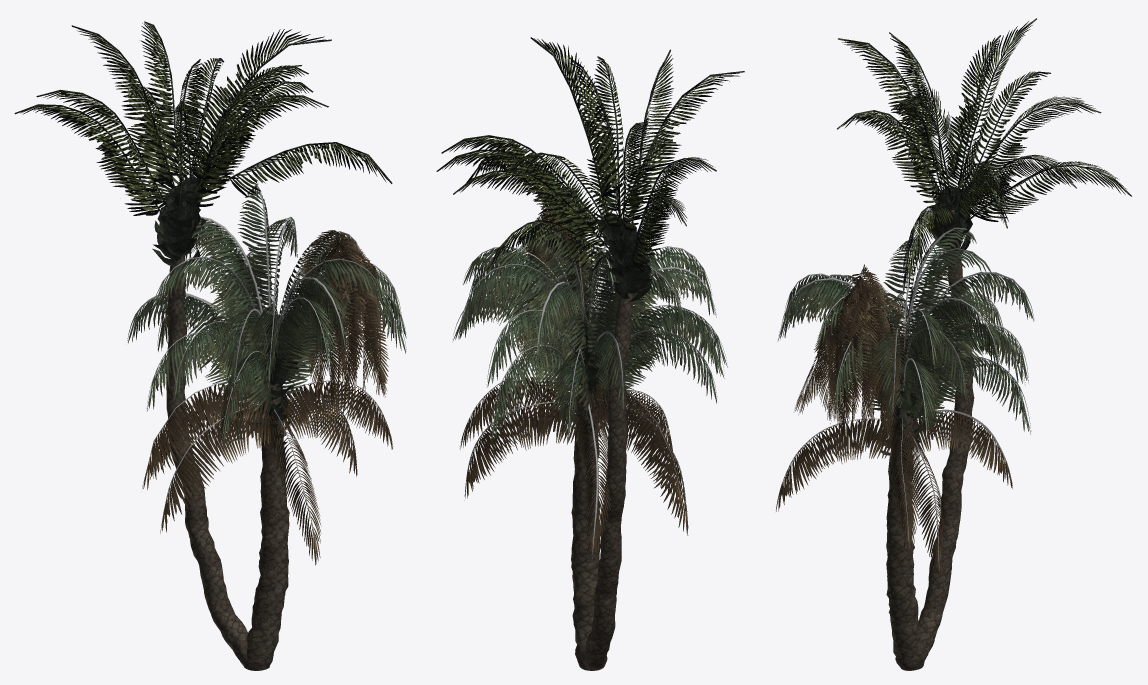
The model's file is merged_palm_tree.obj.
3 views of the same model, side by side, from view 1: azimuth 30°, elevation 25°; view 2: azimuth 150°, elevation 25°; view 3: azimuth 270°, elevation 25° (orthographic). The views are drawn at different scales.
Visible parts, largest first — view 1: Palm_tree_001_v2_M_frond_02_inst_Inst_0.001, Palm_tree_002_v2_M_frond_03_inst_Inst1_0.001, Palm_tree_001_v2_M_frond_01_inst_0.001, Palm_tree_002_v2_M_frond_01_inst.1_0.001, Palm_tree_002_v2_M_palm_bark_01.1_0.001, Palm_tree_001_v2_M_palm_bark_01_0.001, Palm_tree_001_v2_M_palm_bark_02_0.001, Palm_tree_002_v2_M_palm_bark_02.1_0.001, Palm_tree_002_v2_M_bark_hair_inst.1_0.001, Palm_tree_001_v2_M_bark_hair_inst_0.001; view 2: Palm_tree_001_v2_M_frond_02_inst_Inst_0.001, Palm_tree_002_v2_M_frond_03_inst_Inst1_0.001, Palm_tree_001_v2_M_frond_01_inst_0.001, Palm_tree_002_v2_M_palm_bark_01.1_0.001, Palm_tree_001_v2_M_palm_bark_01_0.001, Palm_tree_002_v2_M_palm_bark_02.1_0.001, Palm_tree_001_v2_M_palm_bark_02_0.001, Palm_tree_002_v2_M_bark_hair_inst.1_0.001, Palm_tree_002_v2_M_frond_01_inst.1_0.001, Palm_tree_001_v2_M_bark_hair_inst_0.001; view 3: Palm_tree_001_v2_M_frond_02_inst_Inst_0.001, Palm_tree_002_v2_M_frond_03_inst_Inst1_0.001, Palm_tree_001_v2_M_frond_01_inst_0.001, Palm_tree_002_v2_M_frond_01_inst.1_0.001, Palm_tree_001_v2_M_palm_bark_01_0.001, Palm_tree_002_v2_M_palm_bark_01.1_0.001, Palm_tree_001_v2_M_palm_bark_02_0.001, Palm_tree_002_v2_M_palm_bark_02.1_0.001, Palm_tree_002_v2_M_bark_hair_inst.1_0.001, Palm_tree_001_v2_M_bark_hair_inst_0.001.
Part boxes in pixels (x1,y1,x2,y2): Palm_tree_001_v2_M_frond_02_inst_Inst_0.001: (128,185,406,446); Palm_tree_002_v2_M_frond_03_inst_Inst1_0.001: (18,22,388,215); Palm_tree_001_v2_M_frond_01_inst_0.001: (142,381,393,565); Palm_tree_002_v2_M_frond_01_inst.1_0.001: (300,230,389,408); Palm_tree_002_v2_M_palm_bark_01.1_0.001: (166,254,269,669); Palm_tree_001_v2_M_palm_bark_01_0.001: (243,384,289,670); Palm_tree_001_v2_M_palm_bark_02_0.001: (127,185,406,563); Palm_tree_002_v2_M_palm_bark_02.1_0.001: (14,21,392,213); Palm_tree_002_v2_M_bark_hair_inst.1_0.001: (152,176,206,267); Palm_tree_001_v2_M_bark_hair_inst_0.001: (243,315,302,445); Palm_tree_001_v2_M_frond_02_inst_Inst_0.001: (453,219,727,444); Palm_tree_002_v2_M_frond_03_inst_Inst1_0.001: (441,38,739,271); Palm_tree_001_v2_M_frond_01_inst_0.001: (460,377,688,559); Palm_tree_002_v2_M_palm_bark_01.1_0.001: (582,238,632,669); Palm_tree_001_v2_M_palm_bark_01_0.001: (571,375,607,670); Palm_tree_002_v2_M_palm_bark_02.1_0.001: (436,37,744,269); Palm_tree_001_v2_M_palm_bark_02_0.001: (452,217,726,558); Palm_tree_002_v2_M_bark_hair_inst.1_0.001: (597,215,651,302); Palm_tree_002_v2_M_frond_01_inst.1_0.001: (516,202,593,367); Palm_tree_001_v2_M_bark_hair_inst_0.001: (560,311,607,435); Palm_tree_001_v2_M_frond_02_inst_Inst_0.001: (778,229,1033,439); Palm_tree_002_v2_M_frond_03_inst_Inst1_0.001: (839,21,1129,289); Palm_tree_001_v2_M_frond_01_inst_0.001: (776,404,1012,576); Palm_tree_002_v2_M_frond_01_inst.1_0.001: (794,264,906,446); Palm_tree_001_v2_M_palm_bark_01_0.001: (886,388,924,670); Palm_tree_002_v2_M_palm_bark_01.1_0.001: (901,210,974,670); Palm_tree_001_v2_M_palm_bark_02_0.001: (775,227,1034,571); Palm_tree_002_v2_M_palm_bark_02.1_0.001: (837,18,1131,294); Palm_tree_002_v2_M_bark_hair_inst.1_0.001: (925,186,972,261); Palm_tree_001_v2_M_bark_hair_inst_0.001: (875,334,925,455).
Bounding box in the file's own units: 4.71 × 9.17 × 4.89.
Materials: 10 (9 with a texture image).
